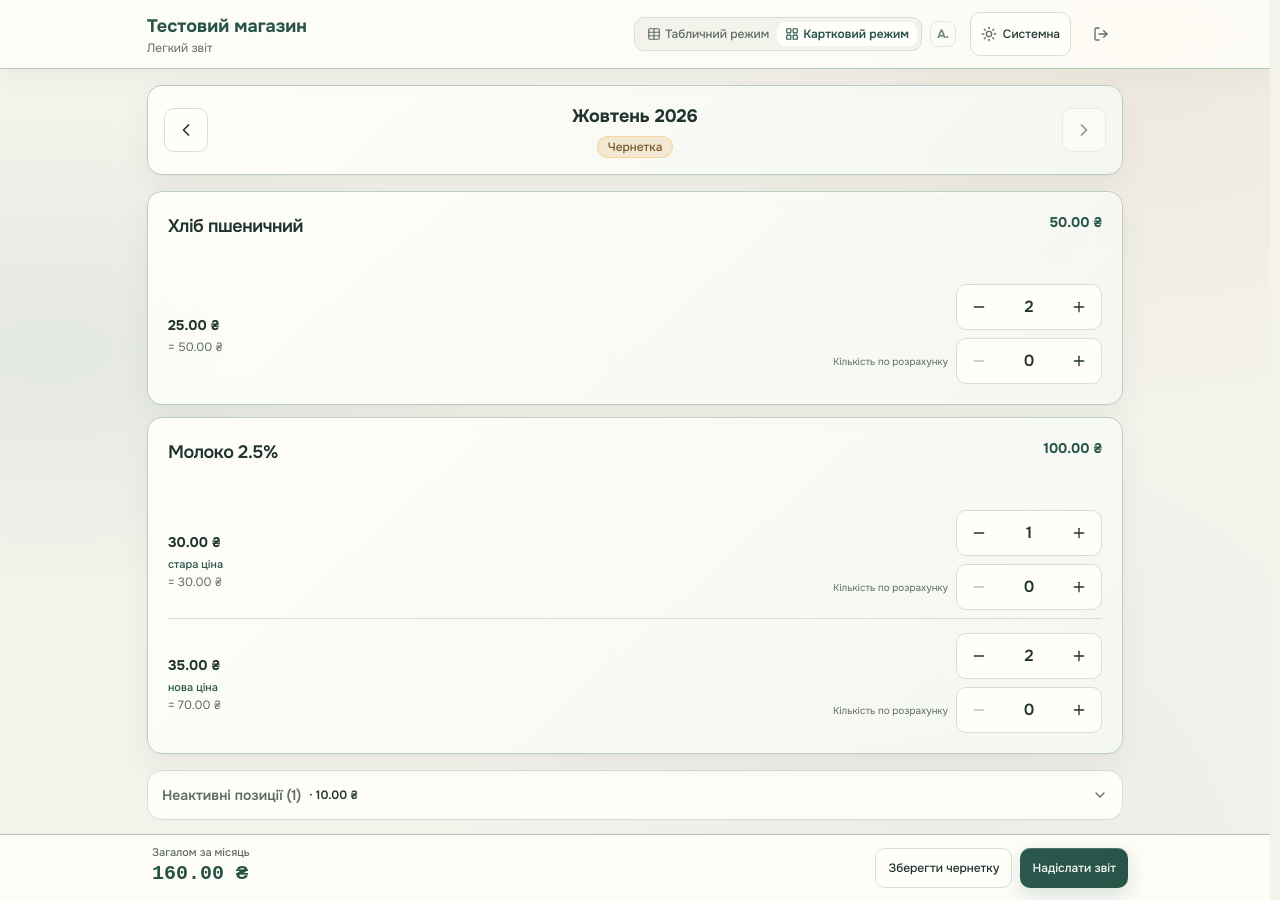
StoreReportPage › saves draft successfully
expect the heading "Хліб пшеничний" is shown: met, box x1=168 y1=212 x2=303 y2=240
What coordinates should you click on to do the following:
click the button "Зберегти чернетку"
I would click on:
 (944, 868)
Its box is x1=875 y1=848 x2=1012 y2=888.
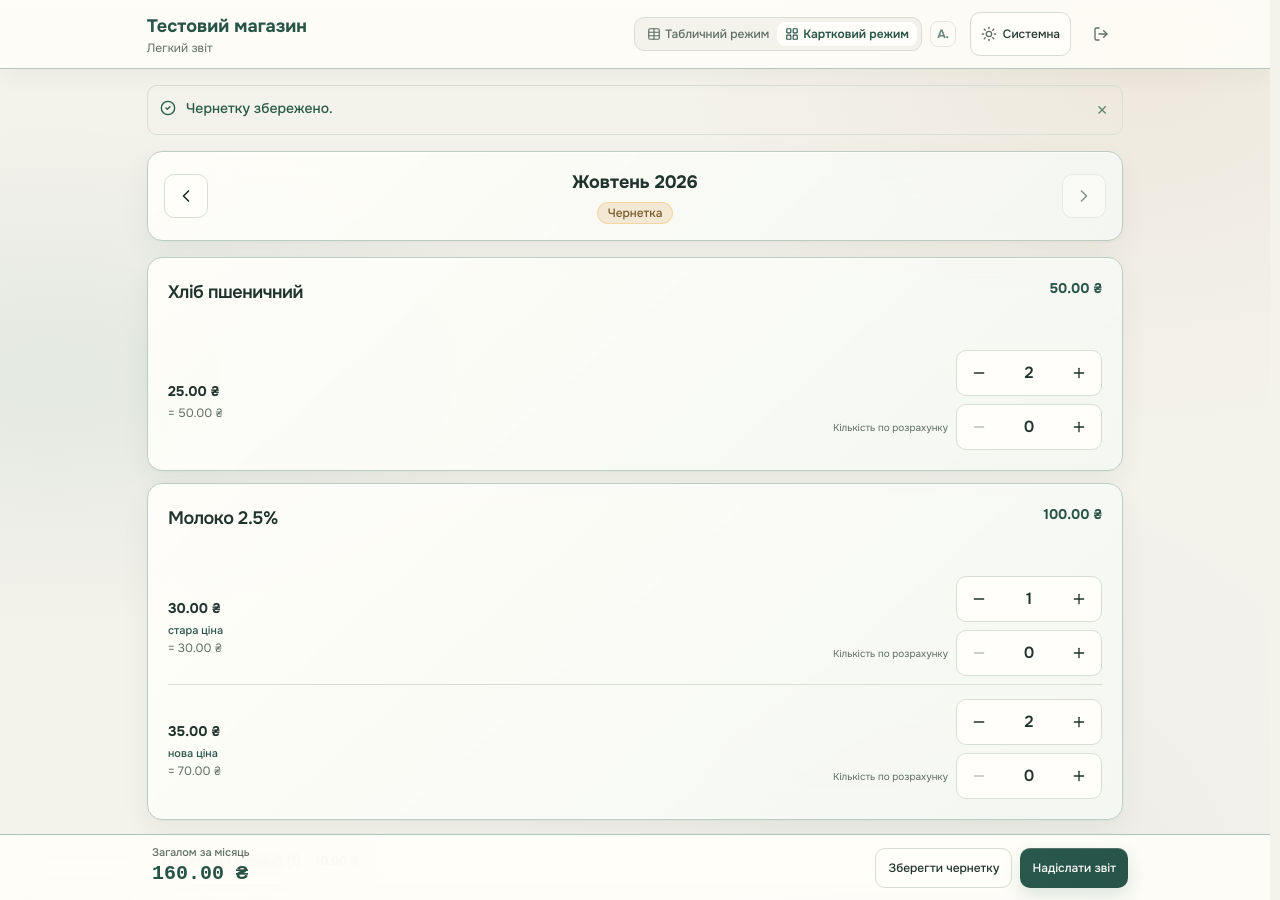
expect the text "Чернетку збережено." is shown: met, box x1=186 y1=99 x2=333 y2=117
